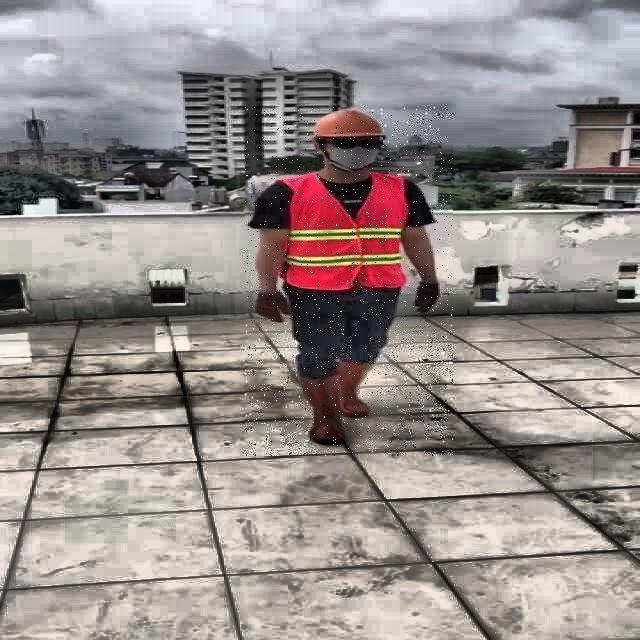safety_helmet: (308, 106, 390, 142)
safety_jacket: (286, 175, 407, 290)
